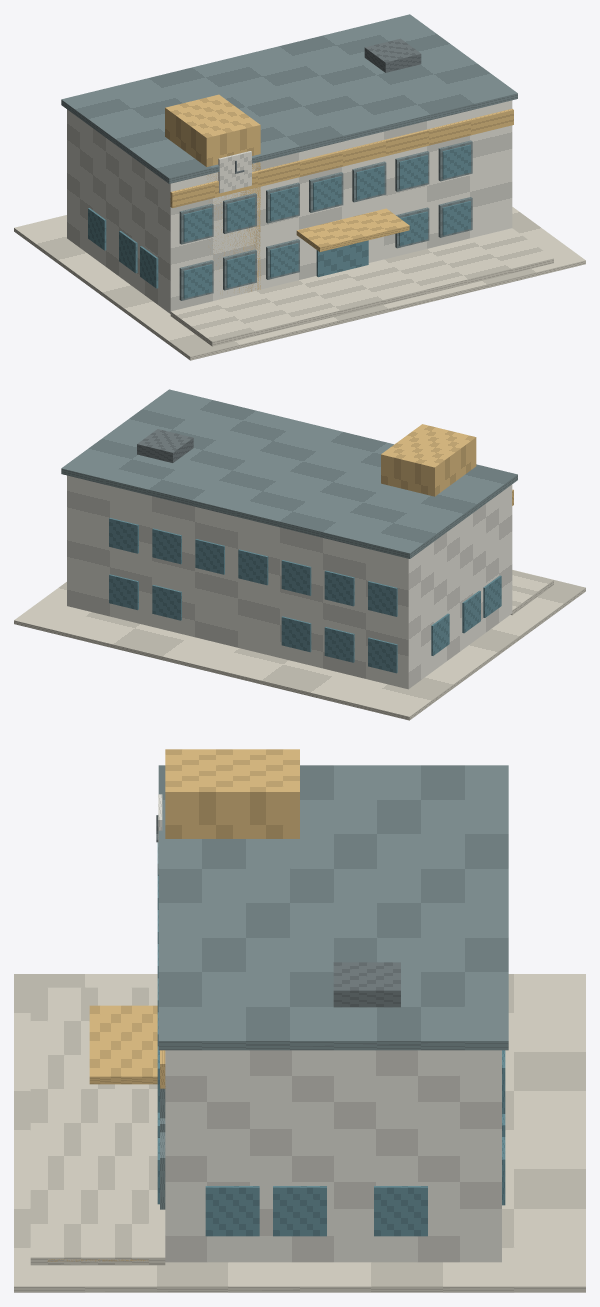
The model's file is school.glb.
3 renders of one model, top to bottom at view 1: azimuth 30°, elevation 25°; view 2: azimuth 150°, elevation 25°; view 3: azimuth 270°, elevation 25°, orthographic. The views are drawn at different scales.
Parts seen in each view (by area): view 1: Public building, Flat roof coping, Entry plaza, Service forecourt, Window glass (×12), School entrance tower, Facade color band, Entry canopy, Side window (×3), Air conditioning, Glazed entry, Clock face (+1 smaller); view 2: Public building, Flat roof coping, Service forecourt, Rear window (×12), School entrance tower, Side window (×3), Air conditioning, Entry plaza; view 3: Flat roof coping, Public building, Service forecourt, Entry plaza, School entrance tower, Side window (×3), Entry canopy, Air conditioning.
Boxes of the visible parts, left/top/right/bottom form: Public building: left=67, top=100, right=512, bottom=313; Flat roof coping: left=61, top=14, right=517, bottom=183; Entry plaza: left=170, top=228, right=553, bottom=346; Service forecourt: left=14, top=207, right=585, bottom=360; Window glass (×12): left=183, top=144, right=470, bottom=298; School entrance tower: left=165, top=94, right=260, bottom=293; Facade color band: left=170, top=108, right=513, bottom=207; Entry canopy: left=296, top=208, right=409, bottom=251; Side window (×3): left=88, top=208, right=158, bottom=288; Air conditioning: left=364, top=38, right=421, bottom=72; Glazed entry: left=316, top=240, right=368, bottom=277; Clock face: left=218, top=151, right=251, bottom=193; Public building: left=67, top=475, right=512, bottom=689; Flat roof coping: left=61, top=389, right=517, bottom=558; Service forecourt: left=14, top=570, right=585, bottom=720; Rear window (×12): left=109, top=518, right=397, bottom=673; School entrance tower: left=381, top=424, right=476, bottom=496; Side window (×3): left=431, top=575, right=501, bottom=655; Air conditioning: left=137, top=429, right=193, bottom=462; Entry plaza: left=510, top=570, right=553, bottom=615; Flat roof coping: left=158, top=765, right=508, bottom=1050; Public building: left=165, top=1050, right=501, bottom=1262; Service forecourt: left=14, top=974, right=585, bottom=1292; Entry plaza: left=30, top=987, right=165, bottom=1265; School entrance tower: left=165, top=749, right=299, bottom=838; Side window (×3): left=205, top=1186, right=427, bottom=1236; Entry canopy: left=89, top=1005, right=157, bottom=1084; Air conditioning: left=333, top=962, right=400, bottom=1007.
Bounding box in the file's own units: 22 × 9.2 × 17.
Materials: 6 (6 with a texture image).
